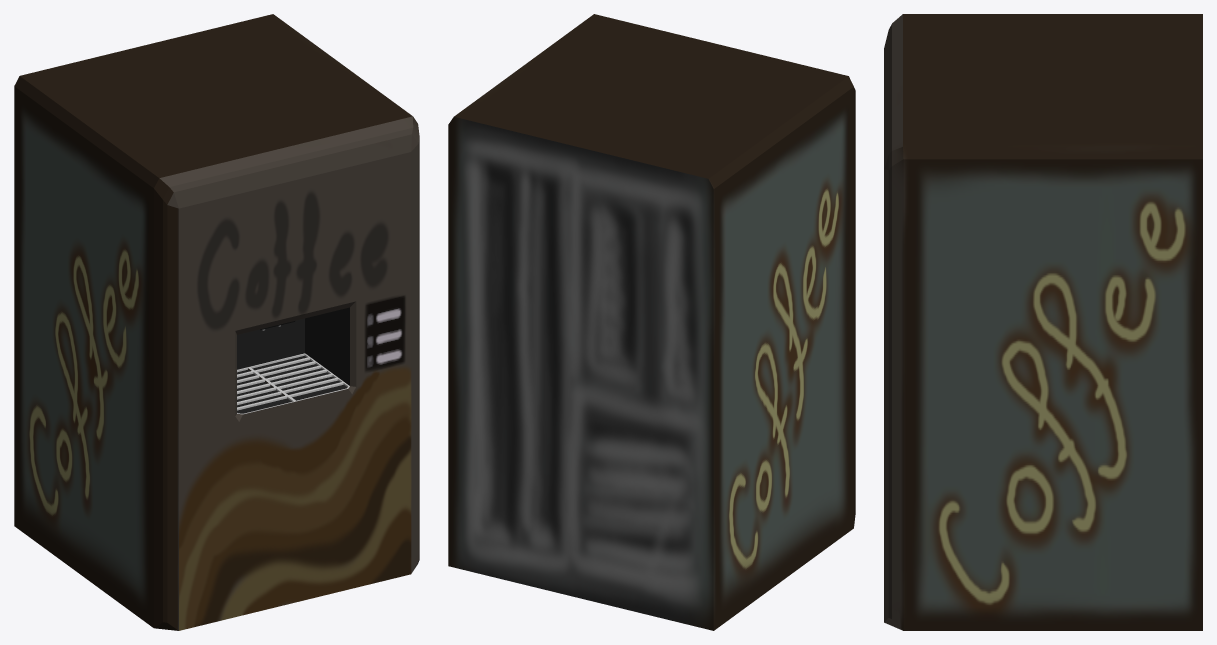
File: Kaffeeautomat.glb
3 views of the same model, side by side, from view 1: azimuth 30°, elevation 25°; view 2: azimuth 150°, elevation 25°; view 3: azimuth 270°, elevation 25° (orthographic). The views are drawn at different scales.
Parts seen in each view (by area): view 1: Cube; view 2: Cube; view 3: Cube.
Boxes of the visible parts, box(x1,y1,x2,y2) form: Cube: box(14, 14, 419, 630); Cube: box(448, 14, 855, 630); Cube: box(884, 14, 1202, 630).
Size of the model in its own units: 1.17 by 1.9 by 1.14.
4 materials, 1 textured.
